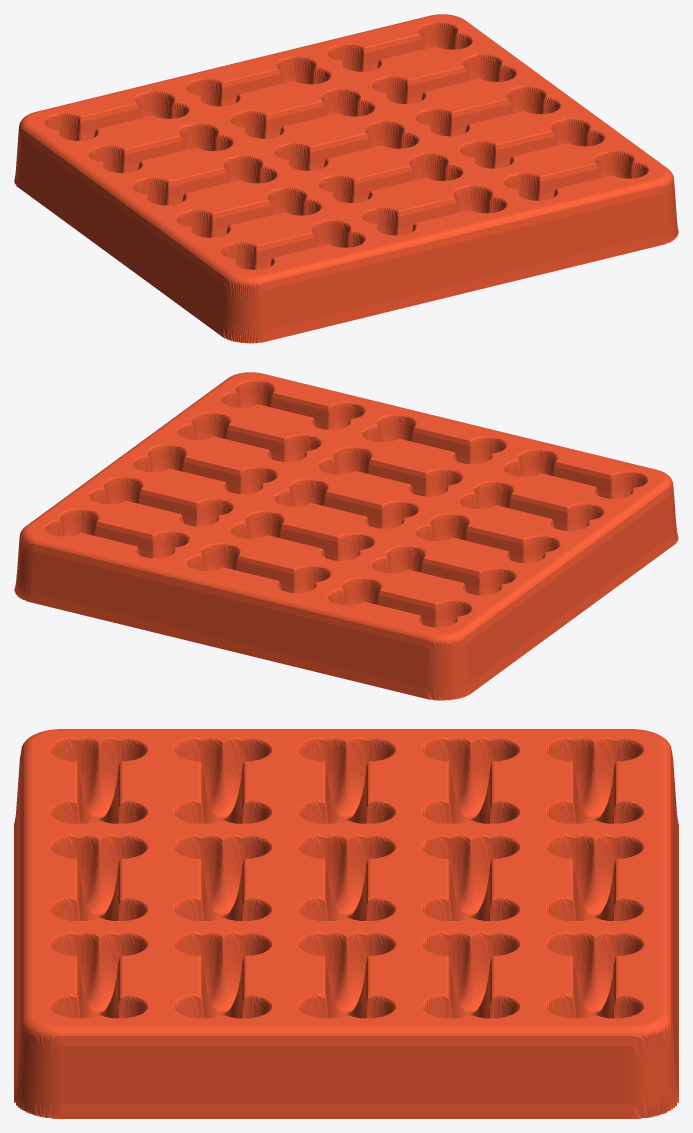
Rendered from mold.glb.
3 renders of one model, top to bottom at view 1: azimuth 30°, elevation 25°; view 2: azimuth 150°, elevation 25°; view 3: azimuth 270°, elevation 25°, orthographic. The views are drawn at different scales.
Visible parts, largest first — view 1: geometry_0; view 2: geometry_0; view 3: geometry_0.
Part boxes in pixels (bbox=[...]): geometry_0: bbox=[14, 14, 678, 343]; geometry_0: bbox=[14, 372, 678, 700]; geometry_0: bbox=[14, 729, 678, 1118].
Size of the model in its own units: 0.1415 by 0.0182 by 0.1278.
